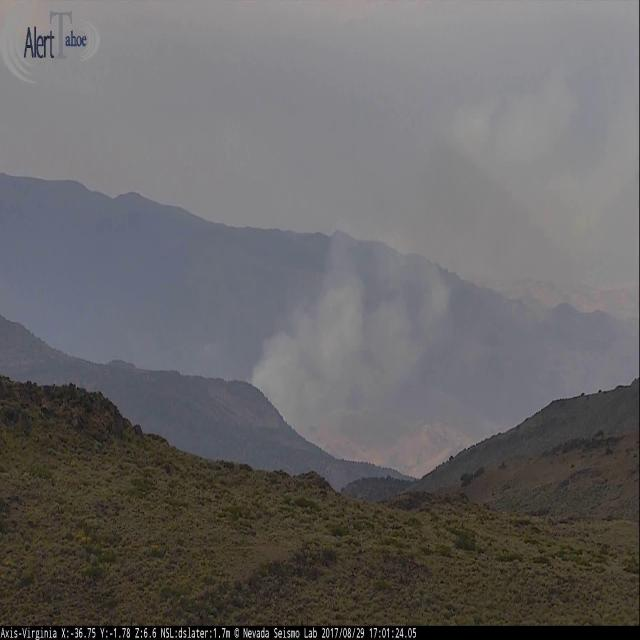smoke: (242, 65, 640, 458)
